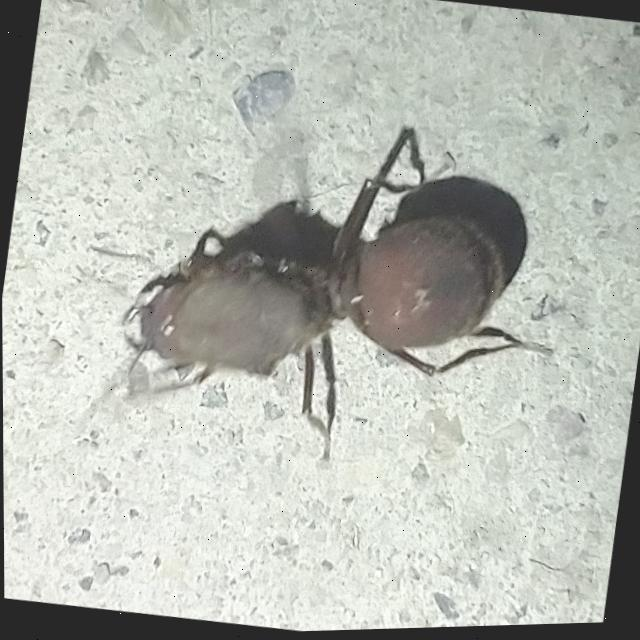Alive-Female-Dealate: (103, 88, 582, 498)
